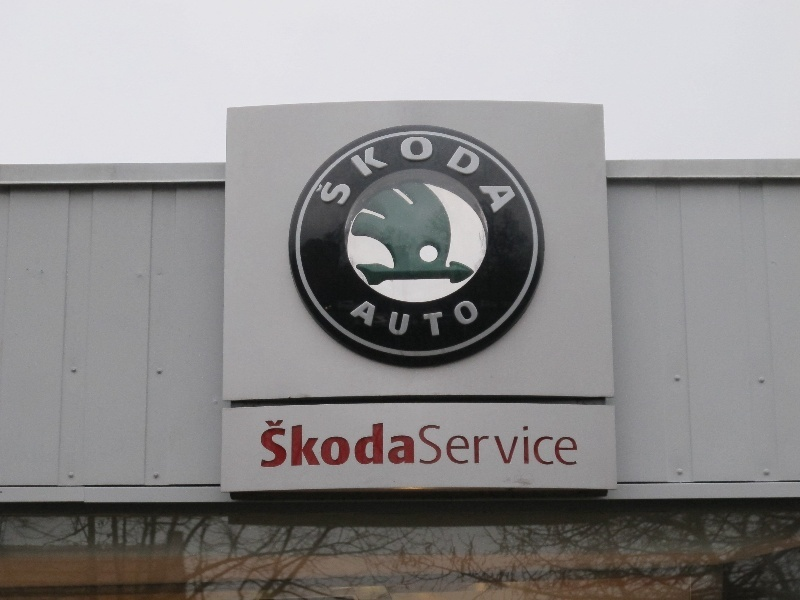text: (321, 136, 336, 215), (337, 136, 352, 215), (353, 136, 368, 215), (369, 136, 384, 215), (385, 136, 400, 215), (401, 136, 416, 215), (417, 136, 432, 215), (433, 136, 448, 215), (449, 136, 464, 215), (465, 136, 480, 215), (481, 136, 496, 215), (497, 136, 512, 215), (306, 136, 320, 215), (513, 136, 526, 215), (273, 419, 288, 468), (289, 419, 304, 468), (305, 419, 320, 468), (321, 419, 336, 468), (337, 419, 352, 468), (353, 419, 368, 468), (369, 419, 384, 468), (385, 419, 400, 468), (401, 419, 416, 468), (417, 419, 432, 468), (433, 419, 448, 468), (449, 419, 464, 468), (465, 419, 480, 468), (481, 419, 496, 468), (497, 419, 512, 468), (513, 419, 528, 468), (529, 419, 544, 468), (545, 419, 560, 468), (561, 419, 576, 468), (369, 300, 384, 344), (385, 300, 400, 344), (401, 300, 416, 344), (417, 300, 432, 344), (433, 300, 448, 344), (449, 300, 464, 344), (465, 300, 479, 344), (261, 419, 272, 468), (577, 419, 578, 468)
